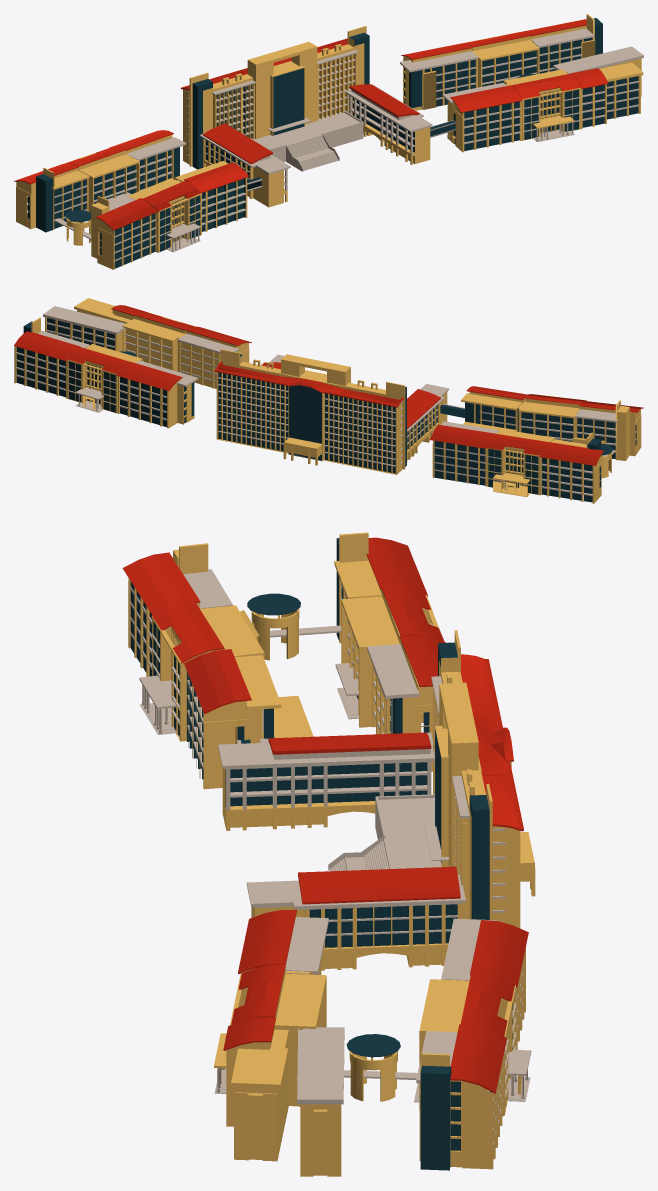
Rendered from FWL  S .FBX.
The picture shows the model from 3 angles, top to bottom: view 1: azimuth 30°, elevation 25°; view 2: azimuth 150°, elevation 25°; view 3: azimuth 270°, elevation 25°; orthographic projection. The views are drawn at different scales.
Parts seen in each view (by area): view 1: FWL03, WCL01, GCL03, WCL02, FWL00, GCL01, WCL03, FWL01, GCL00, WCL00, GCL02, FWL05; view 2: FWL03, FWL01, WCL02, GCL03, GCL01, WCL01, WCL03, WCL00, GCL00, FWL00, FWL05, GCL02; view 3: WCL02, GCL03, FWL03, FWL00, WCL00, GCL00, FWL05, FWL01, WCL03, GCL02, WCL01, GCL01.
Part boxes in pixels (box(x1,y1,x2,y2)): FWL03: box(183, 26, 430, 207); WCL01: box(404, 18, 638, 150); GCL03: box(16, 135, 247, 269); WCL02: box(403, 14, 643, 152); FWL00: box(187, 50, 432, 191); GCL01: box(27, 147, 261, 268); WCL03: box(400, 28, 643, 144); FWL01: box(192, 32, 414, 180); GCL00: box(14, 130, 248, 230); WCL00: box(401, 19, 608, 112); GCL02: box(27, 137, 262, 261); FWL05: box(180, 38, 419, 164); FWL03: box(216, 349, 447, 474); FWL01: box(218, 354, 437, 473); WCL02: box(14, 298, 249, 428); GCL03: box(432, 392, 641, 503); GCL01: box(434, 402, 636, 502); WCL01: box(16, 318, 194, 426); WCL03: box(15, 306, 239, 420); WCL00: box(14, 305, 251, 390); GCL00: box(430, 386, 643, 465); FWL00: box(218, 354, 449, 466); FWL05: box(214, 361, 440, 428); GCL02: box(434, 403, 618, 496); WCL02: box(214, 947, 525, 1176); GCL03: box(128, 532, 441, 789); FWL03: box(222, 630, 535, 970); FWL00: box(218, 676, 505, 935); WCL00: box(223, 910, 528, 1093); GCL00: box(122, 537, 446, 714); FWL05: box(268, 654, 523, 904); FWL01: box(225, 642, 489, 947); WCL03: box(214, 917, 531, 1148); GCL02: box(130, 569, 419, 769); WCL01: box(346, 1003, 512, 1170); GCL01: box(130, 538, 429, 779).
Bounding box in the file's own units: 2.32 × 0.3335 × 0.7285.
